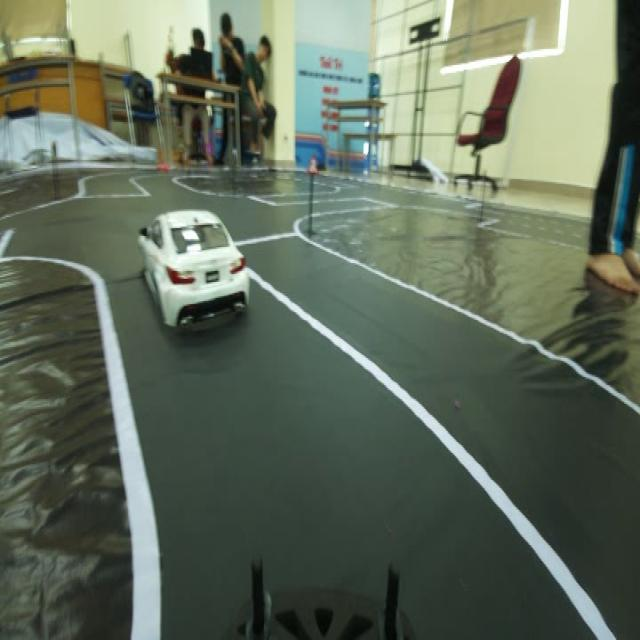car: (130, 201, 256, 339)
